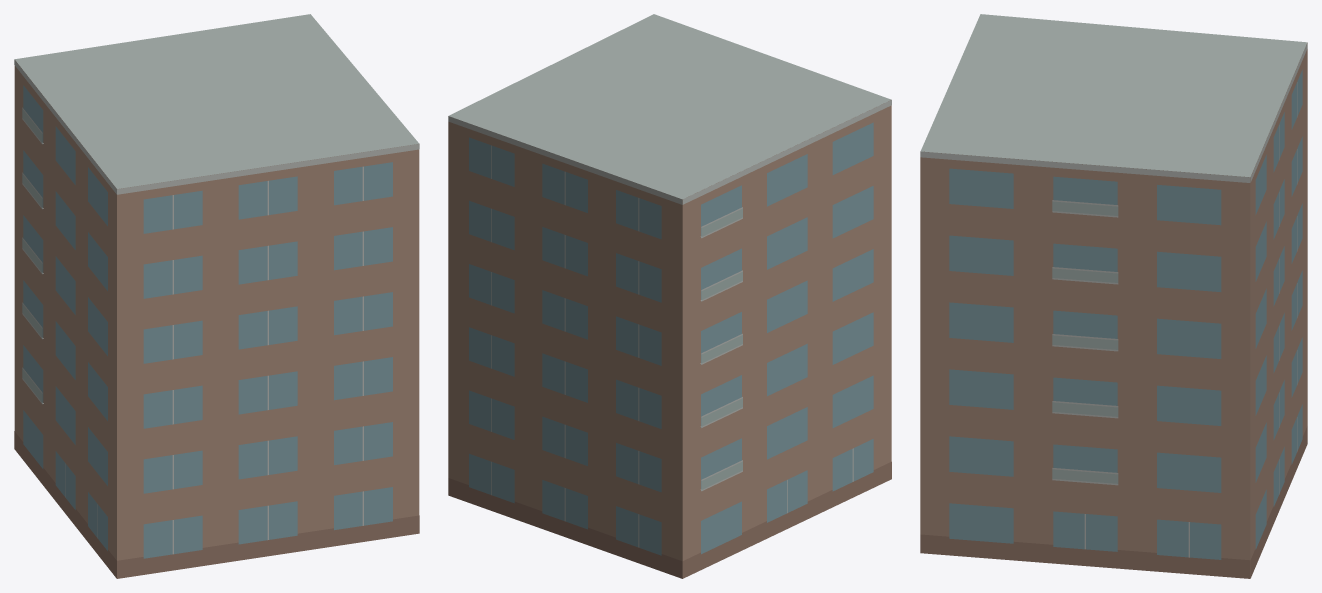
The model's file is survey-upis-32706188.glb.
3 renders of one model, left to right at view 1: azimuth 30°, elevation 25°; view 2: azimuth 150°, elevation 25°; view 3: azimuth 270°, elevation 25°, orthographic. The views are drawn at different scales.
Visible parts, largest first — view 1: survey-upis-32706188.tmp; view 2: survey-upis-32706188.tmp; view 3: survey-upis-32706188.tmp.
Boxes of the visible parts, <box> form: survey-upis-32706188.tmp: <box>14,14,419,578</box>; survey-upis-32706188.tmp: <box>448,14,891,578</box>; survey-upis-32706188.tmp: <box>920,14,1307,578</box>.
Size of the model in its own units: 14.47 by 16.6 by 14.51.
